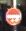No entry: (5, 6, 21, 26)
